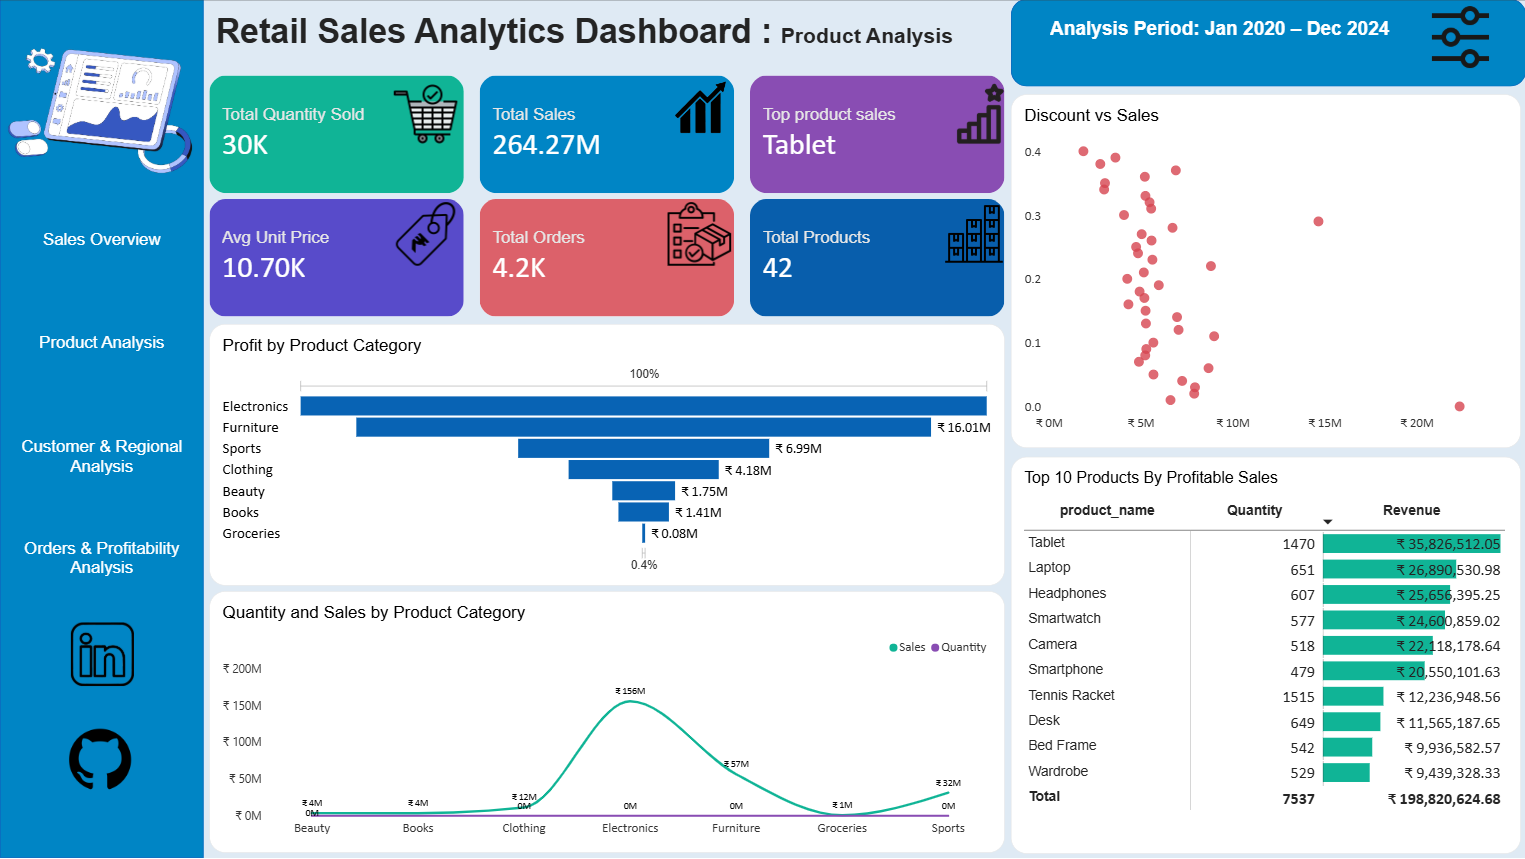

Layout of this report page (visuals, bound fields, positions):
{"tool":"powerbi","page":{"name":"Product Analysis","canvas":[1920,1080],"ordinal":1},"visuals":[{"type":"cardVisual","title":"Total Sales","fields":{"Data":["retail_sales_dataset.Total Quantity Sold"]},"box":[264,96,320.5,148.3],"z":0,"group":"g1"},{"type":"pivotTable","title":"Top 10 Products By Profitable Sales","fields":{"Rows":["retail_sales_dataset.product_name"],"Values":["Sum(retail_sales_dataset.quantity)","Sum(retail_sales_dataset.sales_amount)"]},"box":[1272,576,641,499],"z":0},{"type":"cardVisual","title":"Total Sales","fields":{"Data":["retail_sales_dataset.Total Sales"]},"box":[603.8,96,320.5,148.3],"z":1000,"group":"g1"},{"type":"scatterChart","title":"Discount vs Sales","fields":{"X":["Sum(retail_sales_dataset.sales_amount)"],"Y":["retail_sales_dataset.discount_pct"]},"box":[1272,120,641,445],"z":1000},{"type":"shape","box":[0,-8,256,1088],"z":2000},{"type":"cardVisual","title":"Total Sales","fields":{"Data":["retail_sales_dataset.Total Orders"]},"box":[603.8,251.7,320.5,148.3],"z":2000,"group":"g1"},{"type":"cardVisual","title":"Total Sales","fields":{"Data":["retail_sales_dataset.Avg Unit Price"]},"box":[264,251.7,320.5,148.3],"z":3000,"group":"g1"},{"type":"actionButton","title":"Page 1","box":[0,400,256,64],"z":3000},{"type":"shape","box":[1272,0,648,110],"z":4000},{"type":"cardVisual","title":"Total Sales","fields":{"Data":["retail_sales_dataset.Total Products"]},"box":[943.5,251.7,320.5,148.3],"z":4000,"group":"g1"},{"type":"textbox","title":"Retail Sales Analytics Dashboard","box":[272,16,976,80],"z":5000},{"type":"cardVisual","title":"Total Sales","fields":{"Data":["Min(retail_sales_dataset.product_name)"]},"box":[943.5,96,320.5,148.3],"z":5000,"group":"g1"},{"type":"actionButton","title":"Page 1","box":[0,272,256,64],"z":7000},{"type":"textbox","box":[1320,24,456,72],"z":8000},{"type":"actionButton","title":"Page 1","box":[0,528,256,96],"z":9000},{"type":"image","box":[1752,0,168,96],"z":10000},{"type":"actionButton","title":"Page 1","box":[0,656,256,96],"z":11000},{"type":"group","id":"g1","title":"Group 1","box":[264,96,1000,304],"z":12000},{"type":"lineChart","title":"Quantity and Sales by Product Category","fields":{"Category":["retail_sales_dataset.product_category"],"Y":["Sum(retail_sales_dataset.sales_amount)","Sum(retail_sales_dataset.quantity)"]},"box":[264,744,1000,329],"z":13000},{"type":"funnel","title":"Profit by Product Category","fields":{"Category":["retail_sales_dataset.product_category"],"Y":["Sum(retail_sales_dataset.profit)"]},"box":[264,408,1000,329],"z":14000},{"type":"image","box":[848,96,64,80],"z":16000},{"type":"image","box":[832,256,96,80],"z":17000},{"type":"image","box":[496,96,80,96],"z":18000},{"type":"image","box":[496,256,80,80],"z":19000},{"type":"image","box":[1184,256,80,80],"z":20000},{"type":"image","box":[1184,96,96,96],"z":21000},{"type":"image","box":[64,784,128,80],"z":22000},{"type":"image","box":[64,912,128,96],"z":23000},{"type":"image","box":[0,0,256,272],"z":24000}]}

Visuals, with their boxes in screenshot pixels (x1, y1, x2, y2), scaled from the page's 1920x1080 canvas onto the 1525x859 screenshot:
"Total Sales" cardVisual: x1=210, y1=76, x2=464, y2=194
"Top 10 Products By Profitable Sales" pivotTable: x1=1010, y1=458, x2=1519, y2=855
"Total Sales" cardVisual: x1=480, y1=76, x2=734, y2=194
"Discount vs Sales" scatterChart: x1=1010, y1=95, x2=1519, y2=449
shape: x1=0, y1=0, x2=203, y2=858
"Total Sales" cardVisual: x1=480, y1=200, x2=734, y2=318
"Total Sales" cardVisual: x1=210, y1=200, x2=464, y2=318
"Page 1" actionButton: x1=0, y1=318, x2=203, y2=369
shape: x1=1010, y1=0, x2=1524, y2=87
"Total Sales" cardVisual: x1=749, y1=200, x2=1004, y2=318
"Retail Sales Analytics Dashboard" textbox: x1=216, y1=13, x2=991, y2=76
"Total Sales" cardVisual: x1=749, y1=76, x2=1004, y2=194
"Page 1" actionButton: x1=0, y1=216, x2=203, y2=267
textbox: x1=1048, y1=19, x2=1411, y2=76
"Page 1" actionButton: x1=0, y1=420, x2=203, y2=496
image: x1=1392, y1=0, x2=1524, y2=76
"Page 1" actionButton: x1=0, y1=522, x2=203, y2=598
"Group 1" group: x1=210, y1=76, x2=1004, y2=318
"Quantity and Sales by Product Category" lineChart: x1=210, y1=592, x2=1004, y2=853
"Profit by Product Category" funnel: x1=210, y1=325, x2=1004, y2=586
image: x1=674, y1=76, x2=724, y2=140
image: x1=661, y1=204, x2=737, y2=267
image: x1=394, y1=76, x2=458, y2=153
image: x1=394, y1=204, x2=458, y2=267
image: x1=940, y1=204, x2=1004, y2=267
image: x1=940, y1=76, x2=1017, y2=153
image: x1=51, y1=624, x2=152, y2=687
image: x1=51, y1=725, x2=152, y2=802
image: x1=0, y1=0, x2=203, y2=216
